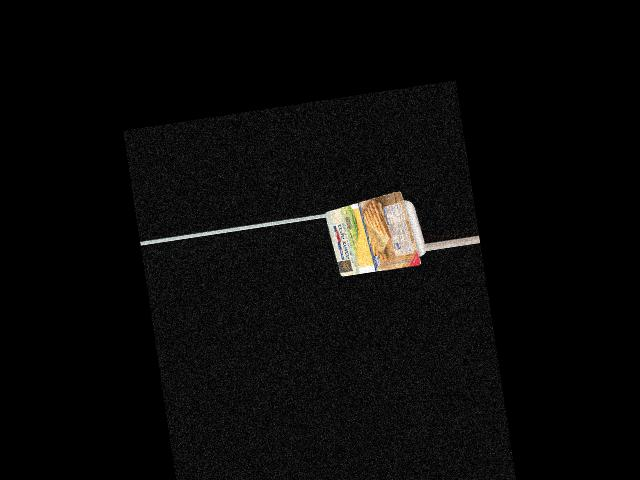cheese: (324, 190, 428, 274)
